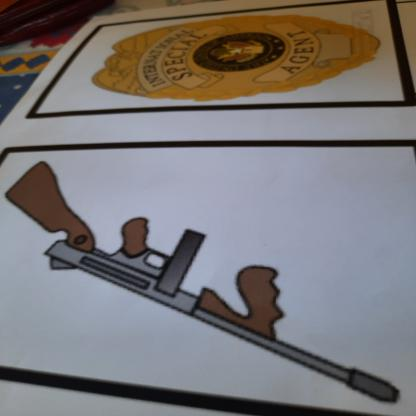Bootlegger: (1, 156, 416, 409)
G-man: (75, 9, 391, 109)
